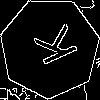K: (24, 22, 79, 72)
